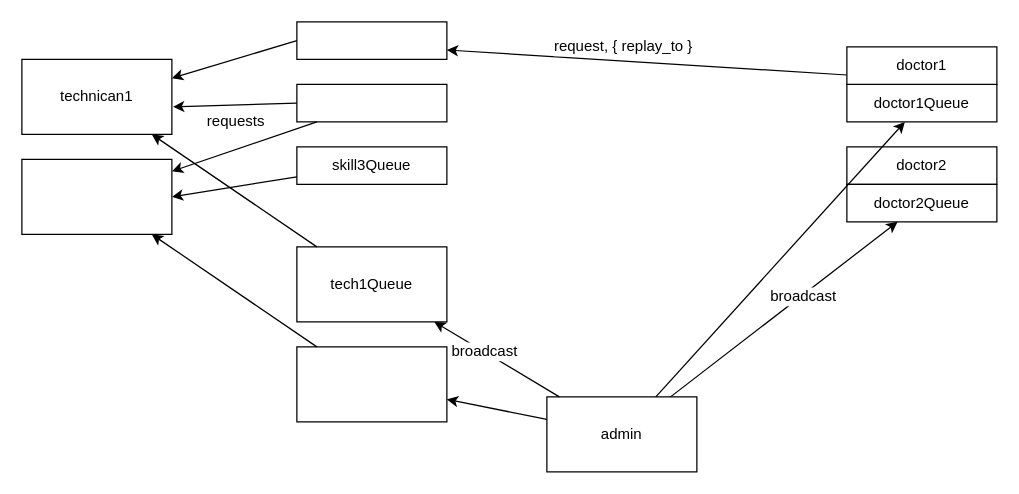
This 1019x494 diagram has some shape labels left out. The shapes that lost their labels are listed below. From the top down, each one's centre as x and y in pixels, then its label:
At point (371, 40): "skill1Queue".
At point (371, 102): "skill2Queue".
At point (96, 196): "technican2".
At point (371, 384): "tech2 Queue".
